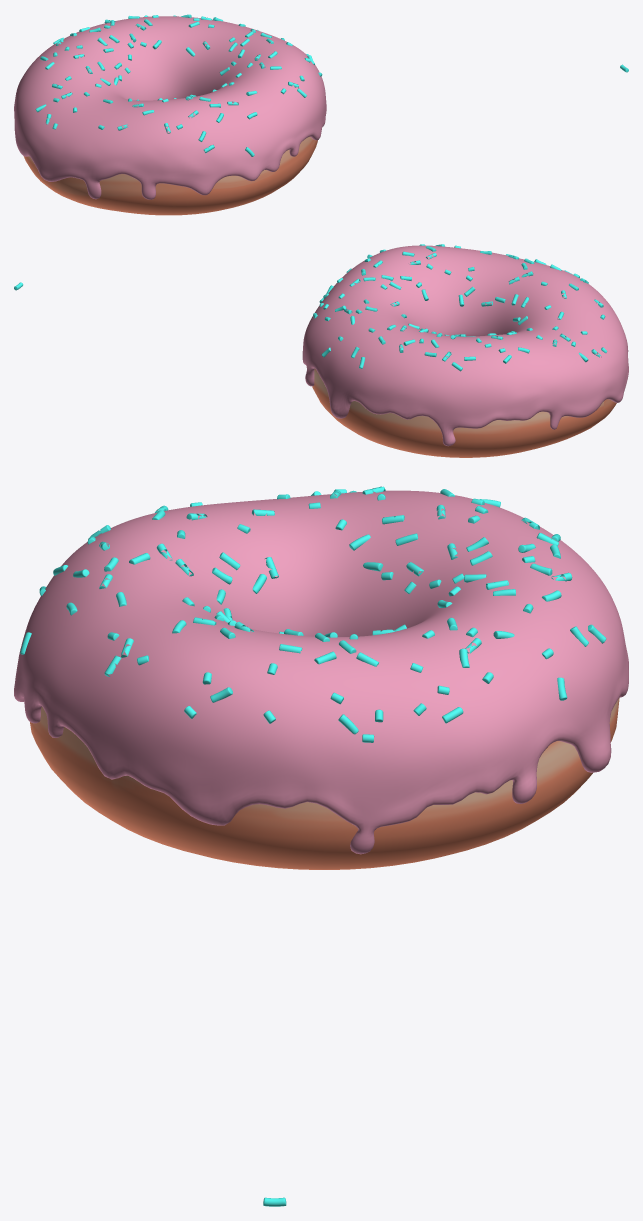
File: donutPrint.fbx
The picture shows the model from 3 angles, top to bottom: view 1: azimuth 30°, elevation 25°; view 2: azimuth 150°, elevation 25°; view 3: azimuth 270°, elevation 25°; orthographic projection. The views are drawn at different scales.
Parts seen in each view (by area): view 1: icing.002, donut-T; view 2: icing.002, donut-T; view 3: icing.002, donut-T.
Part boxes in pixels (x1=…): icing.002: x1=14, y1=14, x2=326, y2=199; donut-T: x1=23, y1=136, x2=317, y2=215; icing.002: x1=302, y1=244, x2=628, y2=446; donut-T: x1=312, y1=369, x2=616, y2=457; icing.002: x1=14, y1=486, x2=628, y2=854; donut-T: x1=30, y1=698, x2=619, y2=869.
Size of the model in its own units: 31.41 by 5.92 by 14.53.
